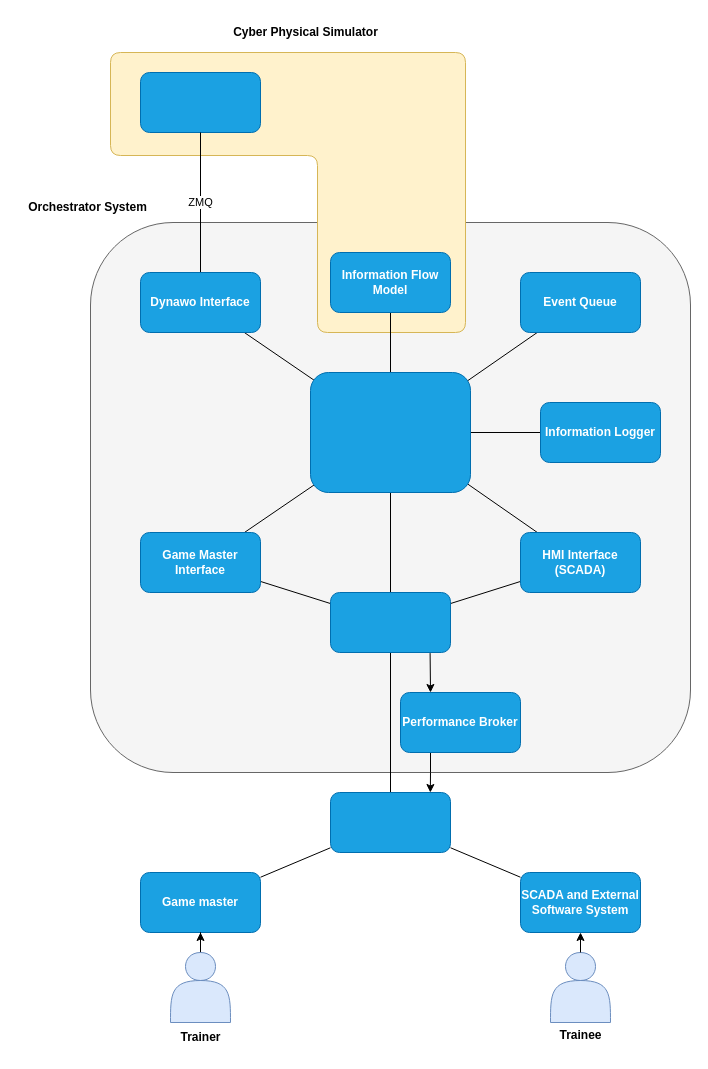
Image size: 708x1069. Some labels were removed from this diagram. The shapes that lost their labels are listed below. From the top down, each one's box as (x1, y1, x2, y2) in pixels, then its label:
(140, 72, 260, 132): Grid Simulator (Dynawo)
(310, 372, 470, 492): Orchestrator
(330, 592, 450, 652): Broker
(330, 792, 450, 852): NATS server
